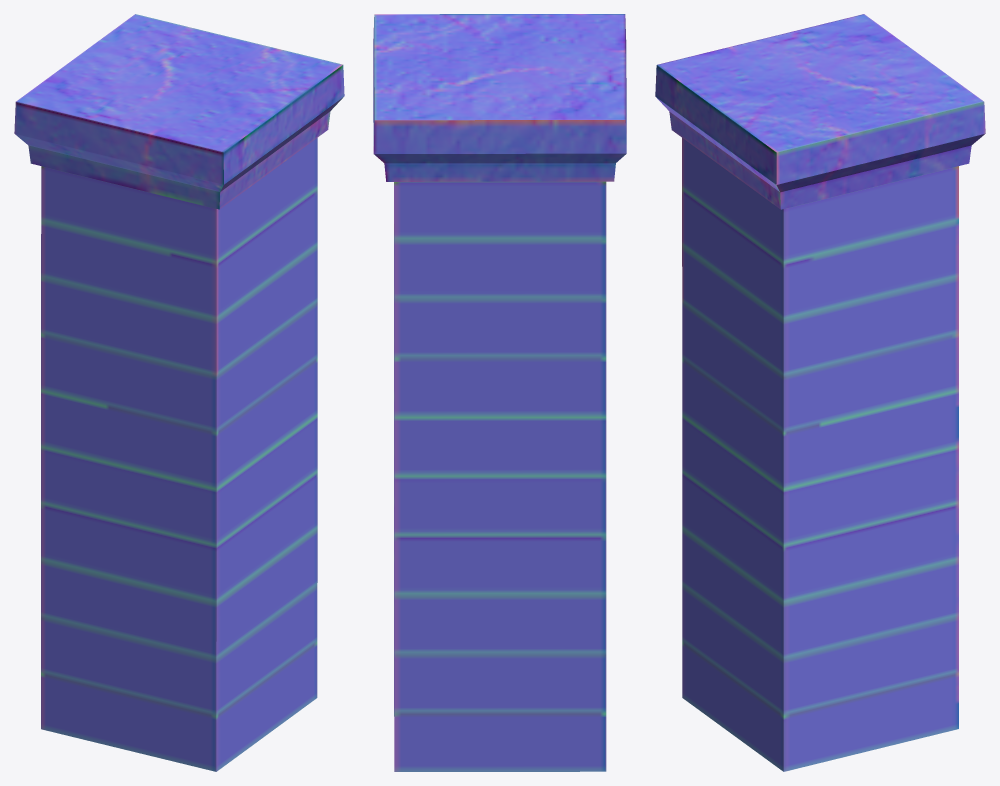
Rendered from pillar_low.029.fbx.
3 renders of one model, left to right at view 1: azimuth 30°, elevation 25°; view 2: azimuth 150°, elevation 25°; view 3: azimuth 270°, elevation 25°, orthographic. The views are drawn at different scales.
Visible parts, largest first — view 1: pillar_low_029; view 2: pillar_low_029; view 3: pillar_low_029.
Boxes of the visible parts, left/top/right/bottom form: pillar_low_029: left=14, top=14, right=344, bottom=771; pillar_low_029: left=373, top=14, right=626, bottom=771; pillar_low_029: left=655, top=14, right=985, bottom=771.
Size of the model in its own units: 93.9 by 198 by 93.9.
